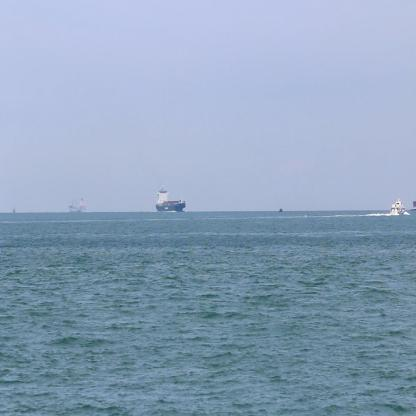Container Ship: (155, 181, 187, 215), (68, 192, 88, 214), (408, 202, 416, 214)
